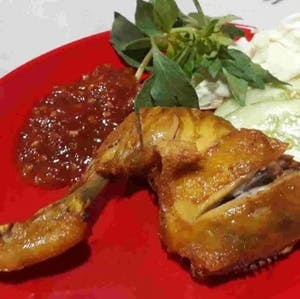ayam_goreng: (2, 105, 298, 277)
